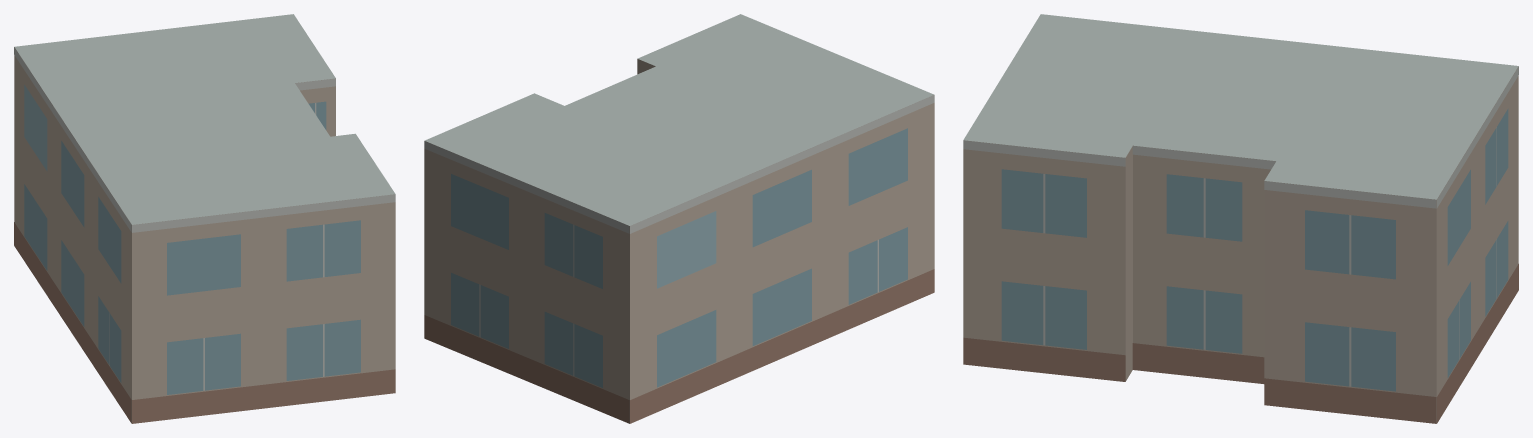
The model's file is survey-upis-32936232.glb.
The picture shows the model from 3 angles, left to right: view 1: azimuth 30°, elevation 25°; view 2: azimuth 150°, elevation 25°; view 3: azimuth 270°, elevation 25°; orthographic projection. The views are drawn at different scales.
Visible parts, largest first — view 1: survey-upis-32936232.tmp; view 2: survey-upis-32936232.tmp; view 3: survey-upis-32936232.tmp.
Part boxes in pixels (x1=…): survey-upis-32936232.tmp: x1=14, y1=14, x2=395, y2=423; survey-upis-32936232.tmp: x1=424, y1=14, x2=934, y2=423; survey-upis-32936232.tmp: x1=963, y1=14, x2=1518, y2=423.
Bounding box in the file's own units: 10.84 × 6.1 × 13.71.
